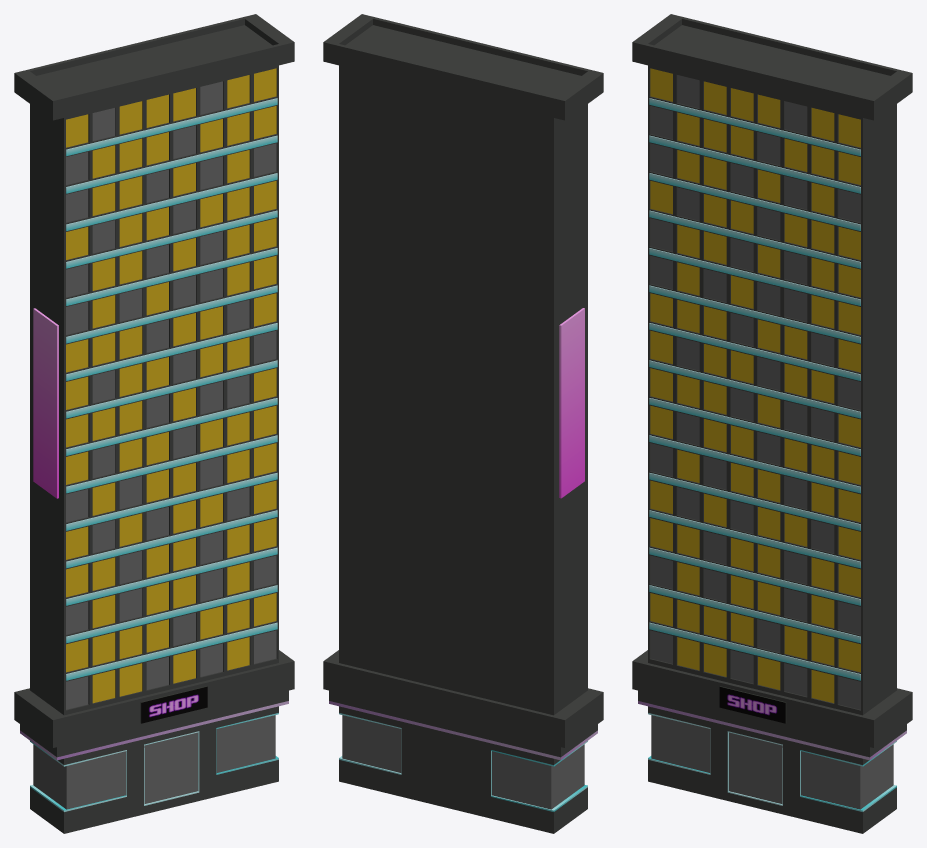
File: skyscraper_01 1.fbx
3 views of the same model, side by side, from view 1: azimuth 30°, elevation 25°; view 2: azimuth 150°, elevation 25°; view 3: azimuth 330°, elevation 25° (orthographic).
Visible parts, largest first — view 1: Skyscraper_01.1, Skyscraper_01.2, Skyscraper_01.3, Skyscraper_01.4, Skyscraper_01.5; view 2: Skyscraper_01.1, Skyscraper_01.3, Skyscraper_01.5, Skyscraper_01.4; view 3: Skyscraper_01.1, Skyscraper_01.2, Skyscraper_01.4, Skyscraper_01.5.
Boxes of the visible parts, x1,y1,x2,y2 form: Skyscraper_01.1: (14, 14, 294, 833); Skyscraper_01.2: (66, 98, 277, 680); Skyscraper_01.3: (33, 308, 58, 498); Skyscraper_01.4: (30, 713, 278, 811); Skyscraper_01.5: (20, 701, 288, 760); Skyscraper_01.1: (323, 14, 603, 833); Skyscraper_01.3: (559, 308, 584, 498); Skyscraper_01.5: (329, 701, 597, 760); Skyscraper_01.4: (339, 713, 587, 811); Skyscraper_01.1: (632, 14, 912, 833); Skyscraper_01.2: (649, 98, 860, 680); Skyscraper_01.4: (648, 713, 896, 811); Skyscraper_01.5: (638, 701, 906, 760).
Size of the model in its own units: 2417 by 7050 by 678.
